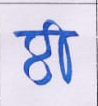i_matra: (48, 19, 75, 82)
